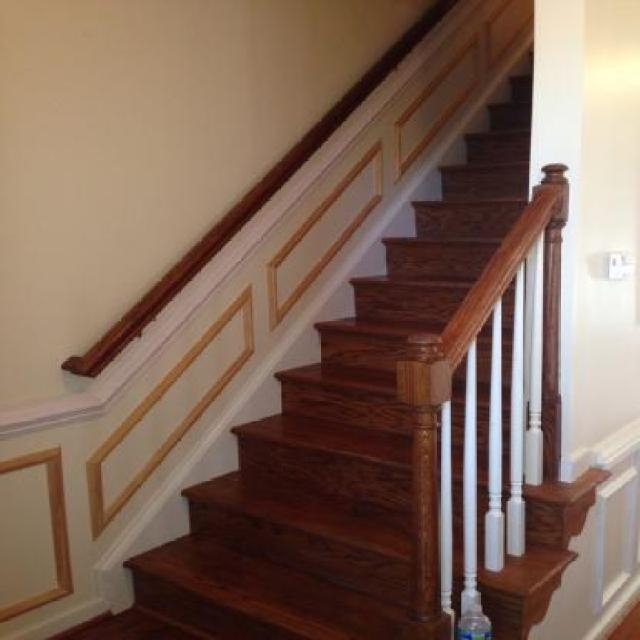stair: (125, 52, 608, 640)
